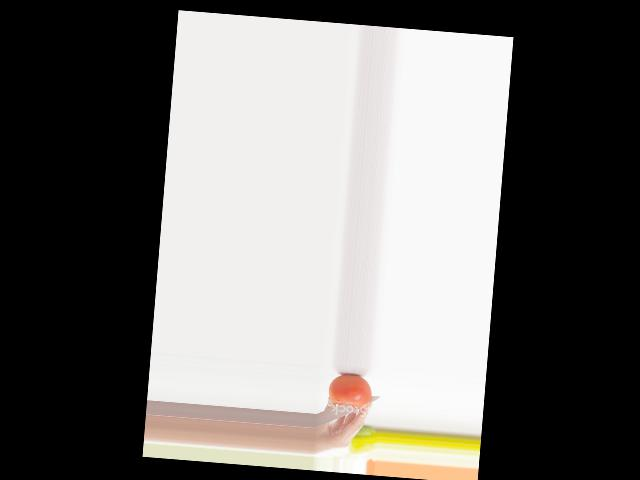tomato: (326, 372, 373, 409)
